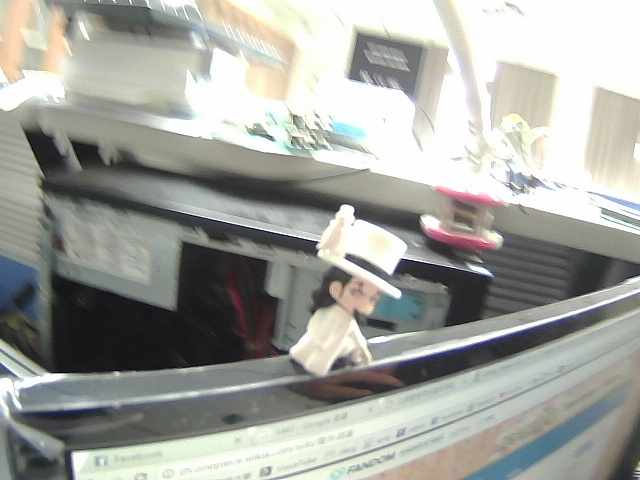lucci: (280, 201, 416, 381)
